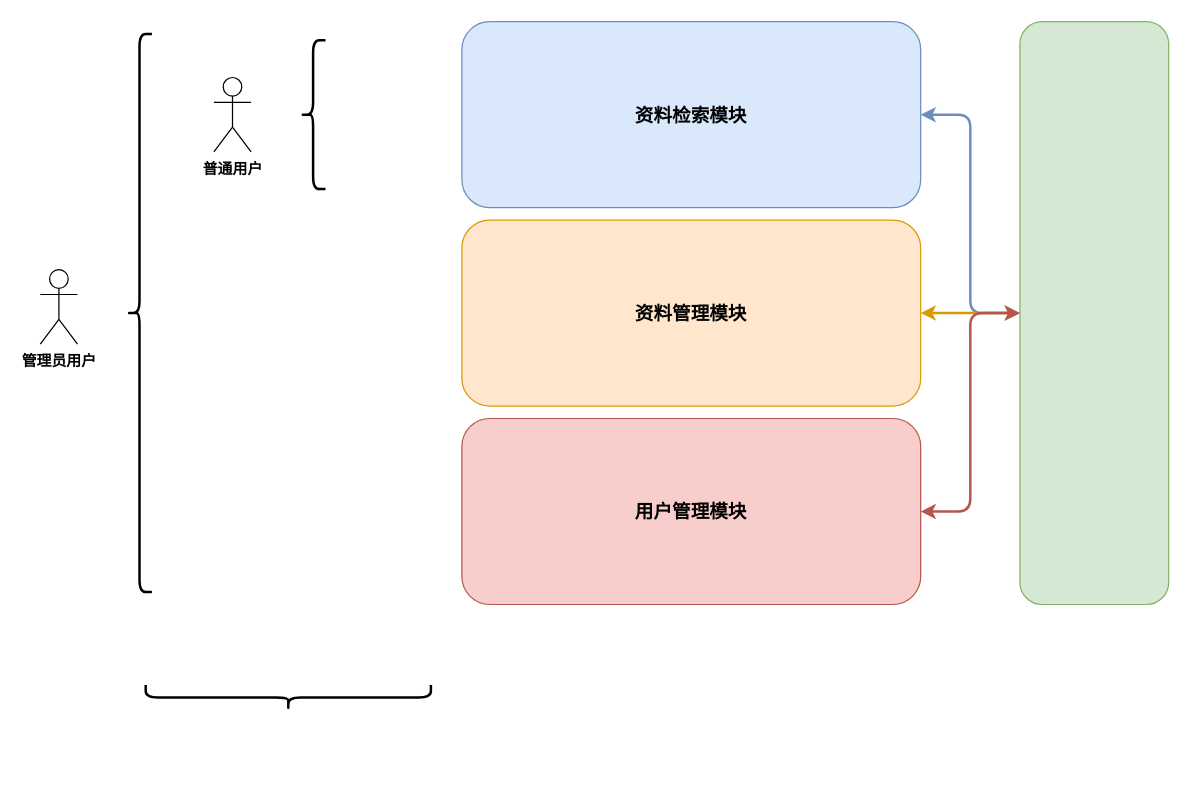
This 1190x787 diagram has some shape labels left out. Each missing label, with the centre of its shape:
"HTTP协议" goes at point (288, 697).
"持久层" goes at point (1094, 312).
